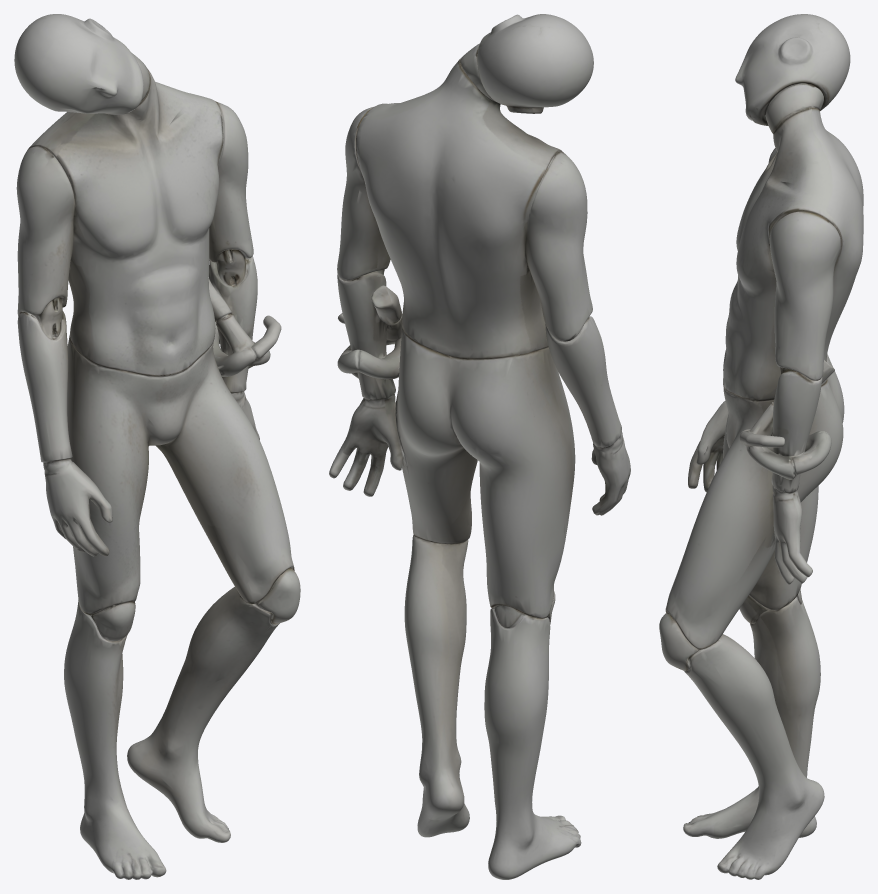
3 views of the same model, side by side, from view 1: azimuth 30°, elevation 25°; view 2: azimuth 150°, elevation 25°; view 3: azimuth 270°, elevation 25° (orthographic). The views are drawn at different scales.
Visible parts, largest first — view 1: node_0; view 2: node_0; view 3: node_0.
Boxes of the visible parts, x1,y1,x2,y2 form: node_0: [14, 14, 300, 879]; node_0: [329, 14, 630, 879]; node_0: [659, 14, 863, 879].
Bounding box in the file's own units: 0.3678 × 1.17 × 0.2699.
Materials: 1 (1 with a texture image).
